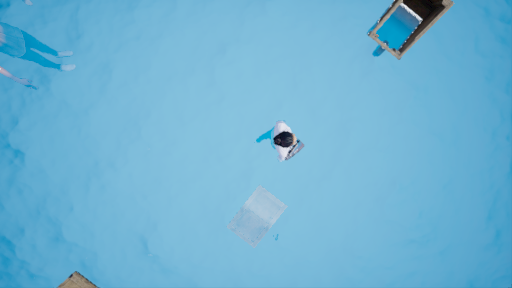person: (252, 123, 313, 175)
